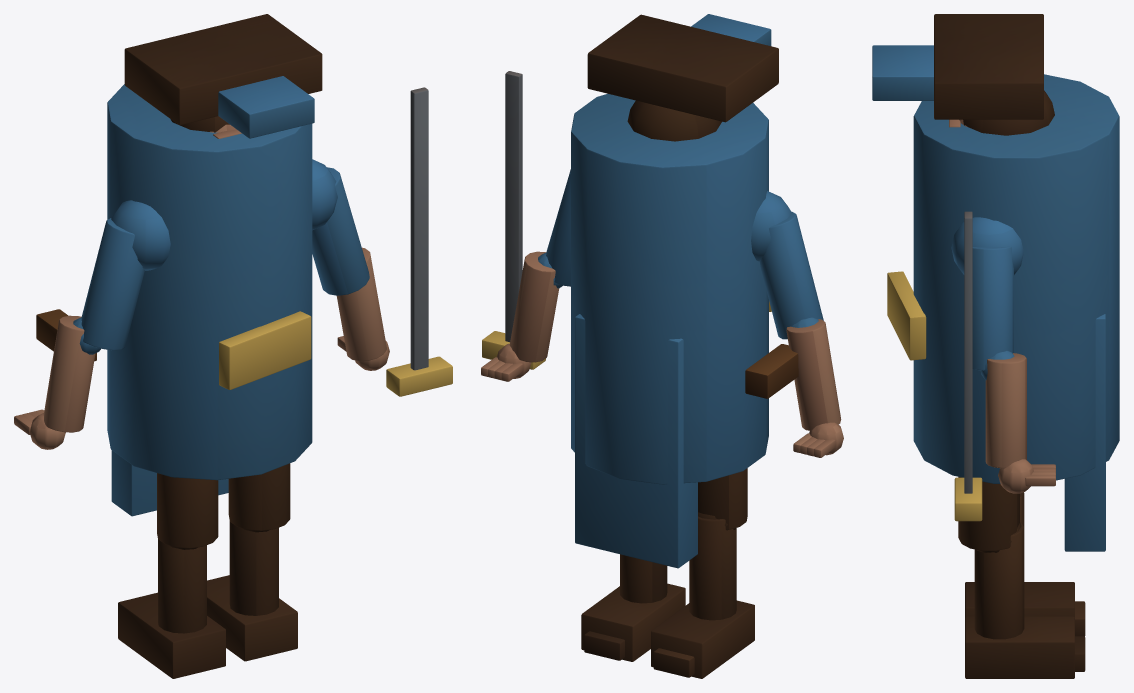
Rendered from unit_freetown_privateer.fbx.
3 views of the same model, side by side, from view 1: azimuth 30°, elevation 25°; view 2: azimuth 150°, elevation 25°; view 3: azimuth 270°, elevation 25° (orthographic). The views are drawn at different scales.
Visible parts, largest first — view 1: unit_freetown_privateer; view 2: unit_freetown_privateer; view 3: unit_freetown_privateer.
Boxes of the visible parts, x1,y1,x2,y2 form: unit_freetown_privateer: (14,14,452,678); unit_freetown_privateer: (481,14,843,678); unit_freetown_privateer: (872,14,1119,678).
Bounding box in the file's own units: 1.3 × 1.93 × 0.72.
